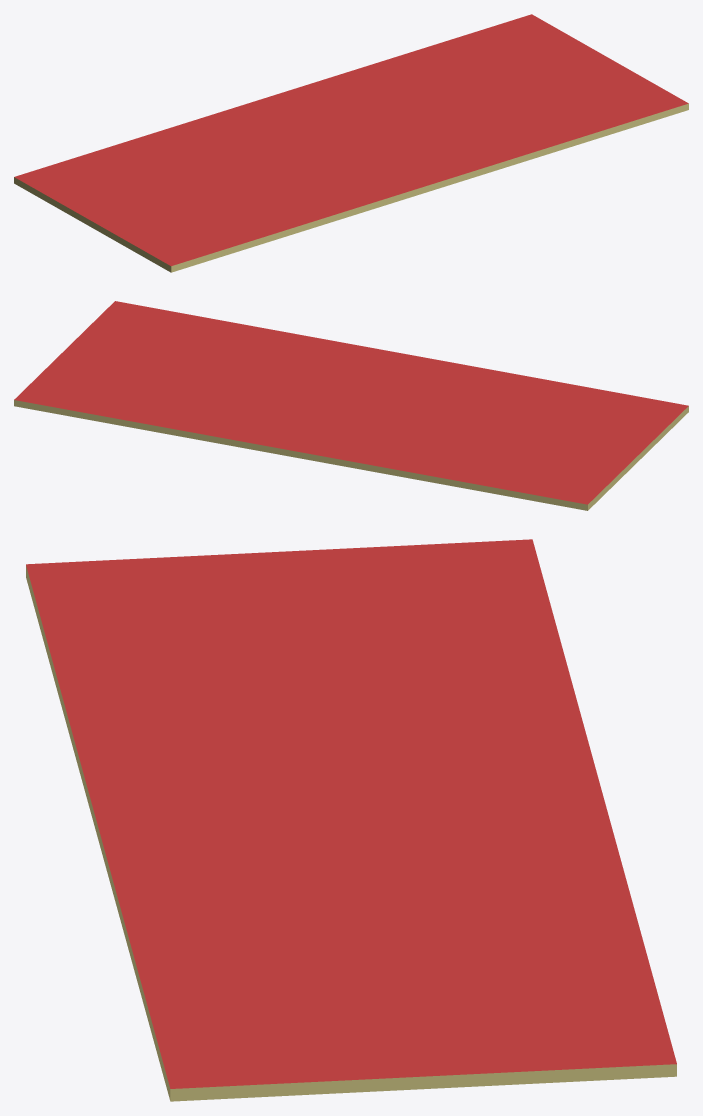
3 views of the same model, one above another, from view 1: azimuth 30°, elevation 25°; view 2: azimuth 150°, elevation 25°; view 3: azimuth 270°, elevation 25° (orthographic). The views are drawn at different scales.
Bounding box in the file's own units: 9.39 × 4.7 × 0.1.
